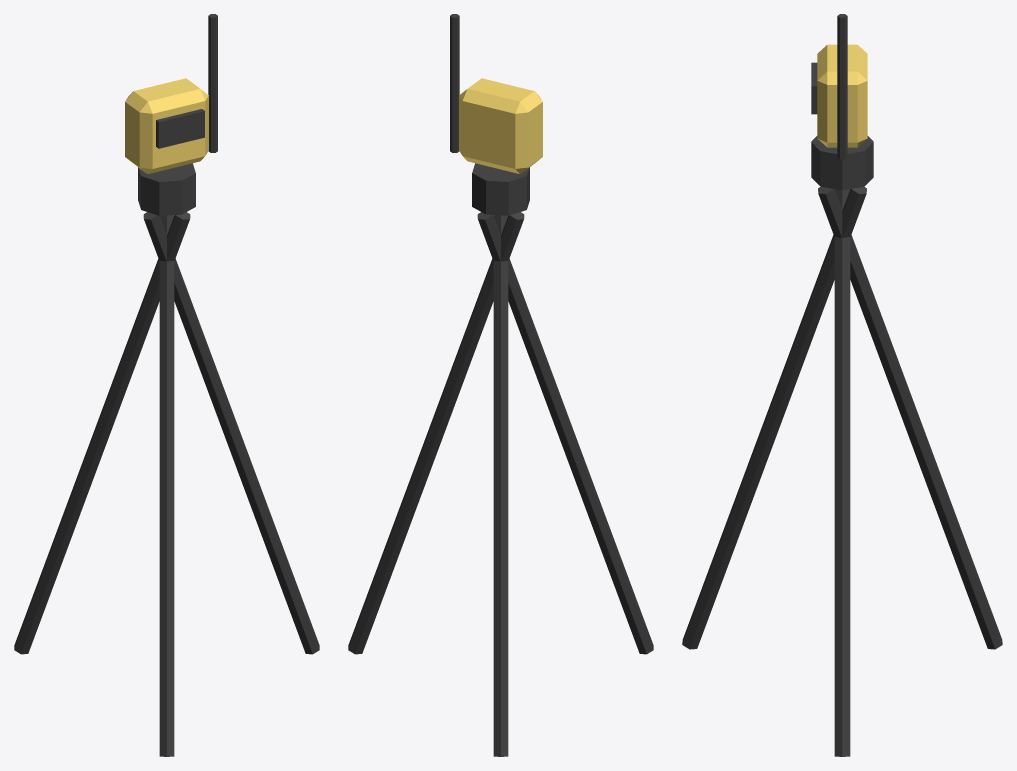
The picture shows the model from 3 angles, left to right: view 1: azimuth 30°, elevation 25°; view 2: azimuth 150°, elevation 25°; view 3: azimuth 270°, elevation 25°; orthographic projection. The views are drawn at different scales.
Parts seen in each view (by area): view 1: Leg.002, Leg, Leg.001, Meter, Mount, Readout, Probe; view 2: Leg.001, Leg, Leg.002, Meter, Mount, Probe; view 3: Leg, Leg.001, Leg.002, Meter, Mount, Probe.
Part boxes in pixels (left/top/right/bottom): Leg.002: left=159, top=215, right=174, bottom=756; Leg: left=143, top=212, right=319, bottom=654; Leg.001: left=14, top=212, right=190, bottom=654; Meter: left=125, top=78, right=208, bottom=173; Mount: left=138, top=163, right=195, bottom=215; Readout: left=156, top=109, right=204, bottom=148; Probe: left=208, top=14, right=217, bottom=152; Leg.001: left=493, top=215, right=508, bottom=756; Leg: left=348, top=212, right=524, bottom=654; Leg.002: left=477, top=212, right=653, bottom=654; Meter: left=459, top=78, right=542, bottom=173; Mount: left=472, top=163, right=529, bottom=215; Probe: left=450, top=14, right=459, bottom=152; Leg: left=834, top=189, right=850, bottom=756; Leg.001: left=818, top=186, right=1002, bottom=649; Leg.002: left=682, top=186, right=866, bottom=649; Meter: left=817, top=44, right=867, bottom=147; Mount: left=811, top=136, right=873, bottom=190; Probe: left=837, top=14, right=847, bottom=159.
Size of the model in its own units: 50.33 by 137 by 57.25.
